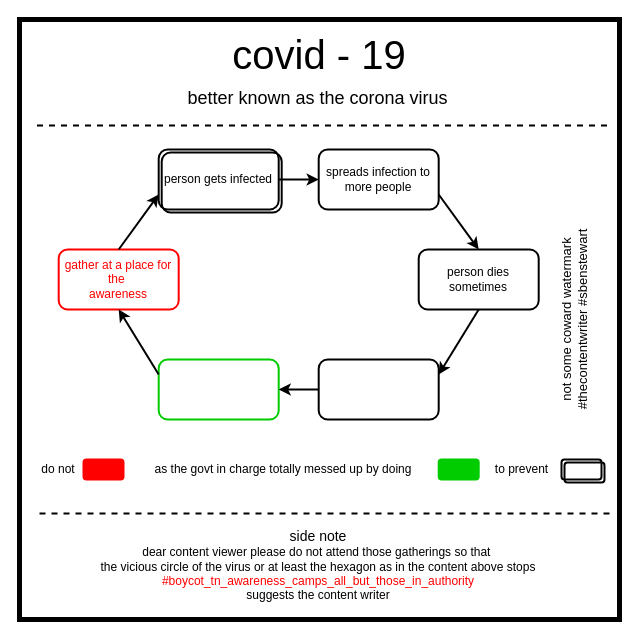
Some shapes in this 639 by 639 pixel diagram are drawn without their labels. The centre of each missing label's shape, as x and y in pixels:
"suggest self quarantine to stop spreading" goes at (378,389).
"tell people to gather to create awareness" goes at (218,389).
